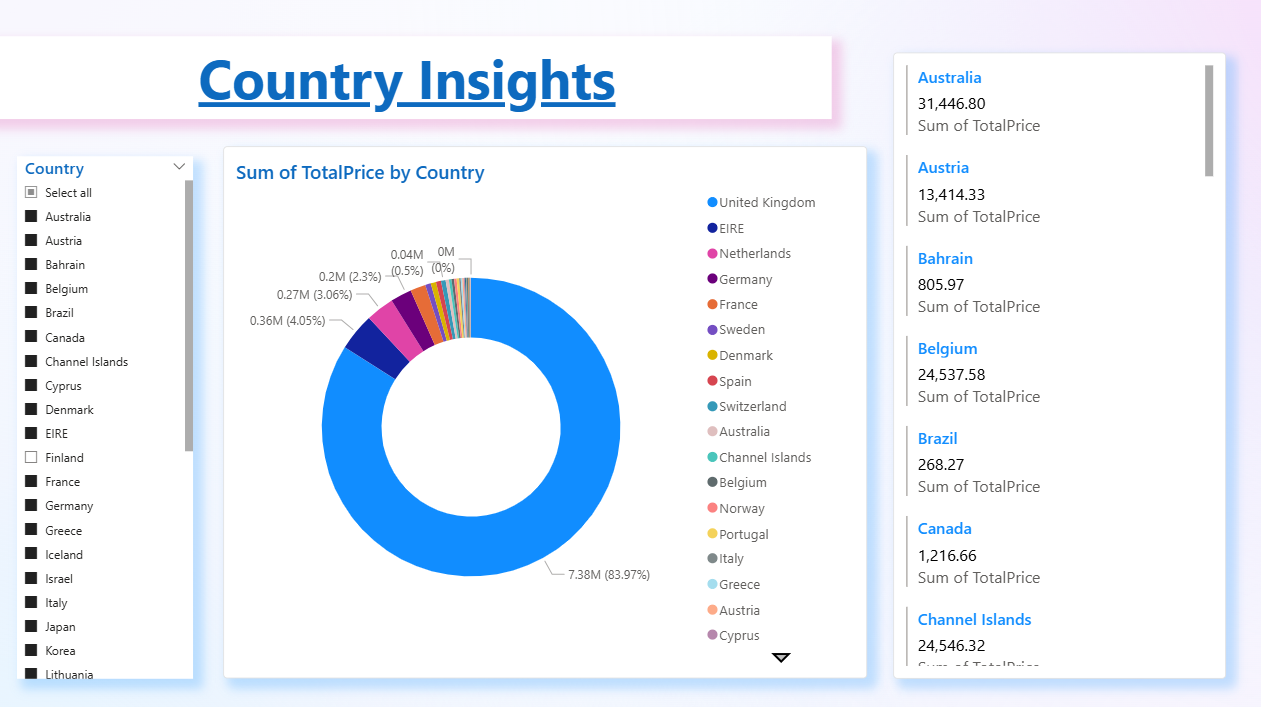

The dashboard page shown, as its layout file describes it:
{"tool":"powerbi","page":{"name":"Country_Insights","canvas":[1280,720],"ordinal":3},"visuals":[{"type":"donutChart","fields":{"Category":["cleaned_online_retail.Country"],"Y":["Sum(cleaned_online_retail.TotalPrice)"]},"box":[240.1,155.5,640.6,529.9],"z":0},{"type":"slicer","fields":{"Values":["cleaned_online_retail.Country"]},"box":[34.8,165.4,175.4,520],"z":1000},{"type":"multiRowCard","fields":{"Values":["cleaned_online_retail.Country","Sum(cleaned_online_retail.TotalPrice)"]},"box":[906.8,62.2,330.9,623.2],"z":2000},{"type":"textbox","box":[0,46,845.9,82.1],"z":3000}]}

Visuals, with their boxes in screenshot pixels (x1, y1, x2, y2), scaled from the page's 1280x720 canvas onto the 1261x707 screenshot:
donutChart - cleaned_online_retail.Country x Sum(cleaned_online_retail.TotalPrice): 237 153 868 673
slicer - cleaned_online_retail.Country: 34 162 207 673
multiRowCard - cleaned_online_retail.Country x Sum(cleaned_online_retail.TotalPrice): 893 61 1219 673
textbox: 0 45 833 126
